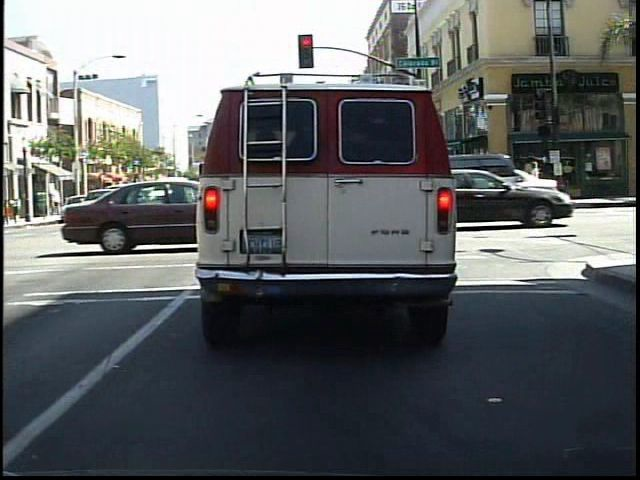person: (537, 153, 558, 204), (511, 160, 531, 206)
